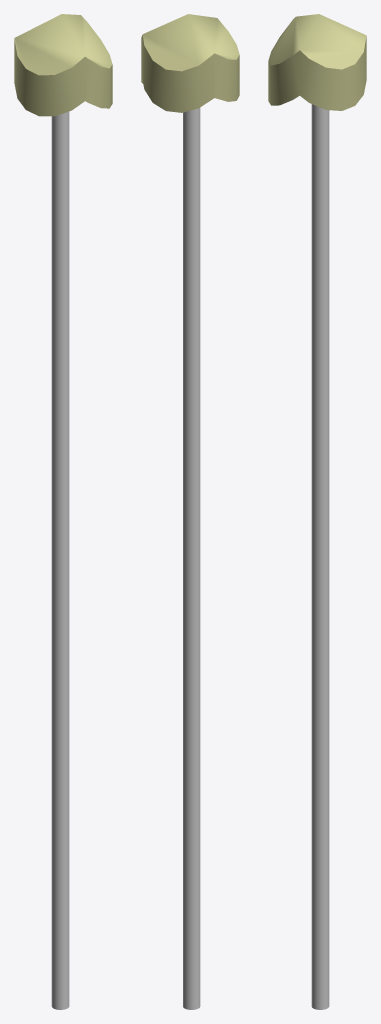
File: Torch.FBX
3 views of the same model, side by side, from view 1: azimuth 90°, elevation 25°; view 2: azimuth 210°, elevation 25°; view 3: azimuth 270°, elevation 25° (orthographic).
Visible parts, largest first — view 1: Cylinder001, asd005; view 2: Cylinder001, asd005; view 3: Cylinder001, asd005.
Part boxes in pixels (x1=…): Cylinder001: x1=51, y1=111, x2=69, y2=1009; asd005: x1=14, y1=14, x2=112, y2=116; Cylinder001: x1=183, y1=108, x2=200, y2=1009; asd005: x1=141, y1=14, x2=239, y2=112; Cylinder001: x1=311, y1=104, x2=329, y2=1009; asd005: x1=268, y1=14, x2=366, y2=110.
Bounding box in the file's own units: 0.2534 × 2.86 × 0.2573.
